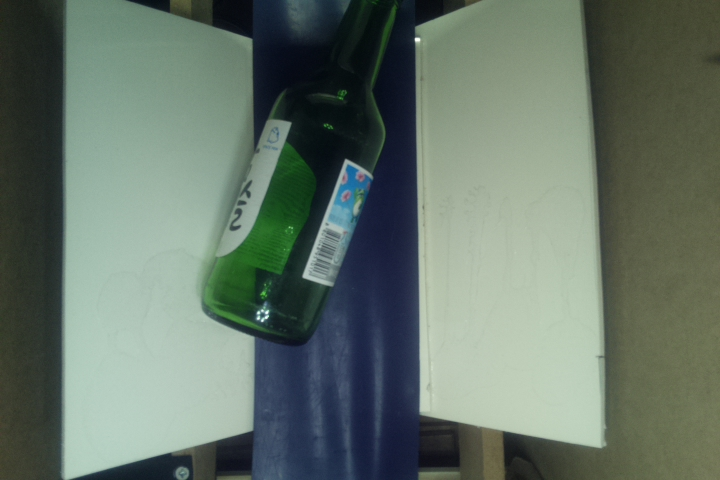soju: (200, 1, 406, 351)
